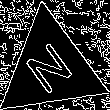N_SE: (21, 35, 80, 100)
